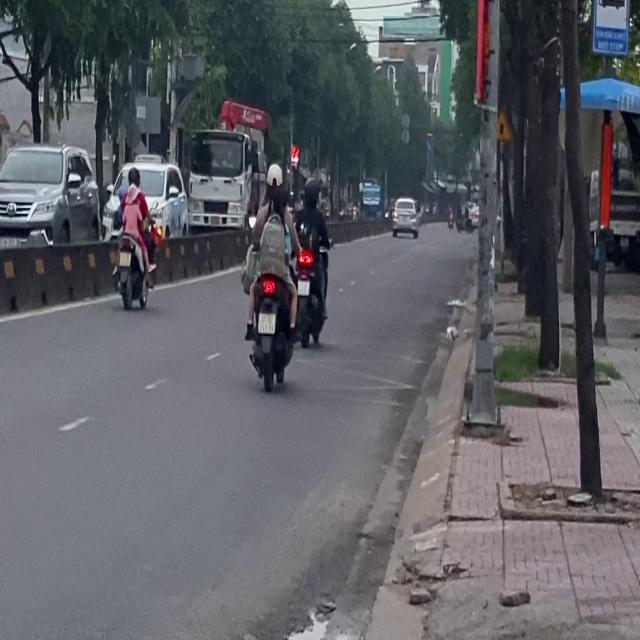helmet: (264, 162, 282, 193), (127, 165, 140, 188)
licenseplate: (241, 160, 297, 390), (115, 163, 154, 310)
nohelmet: (258, 312, 275, 334), (118, 251, 130, 265)
